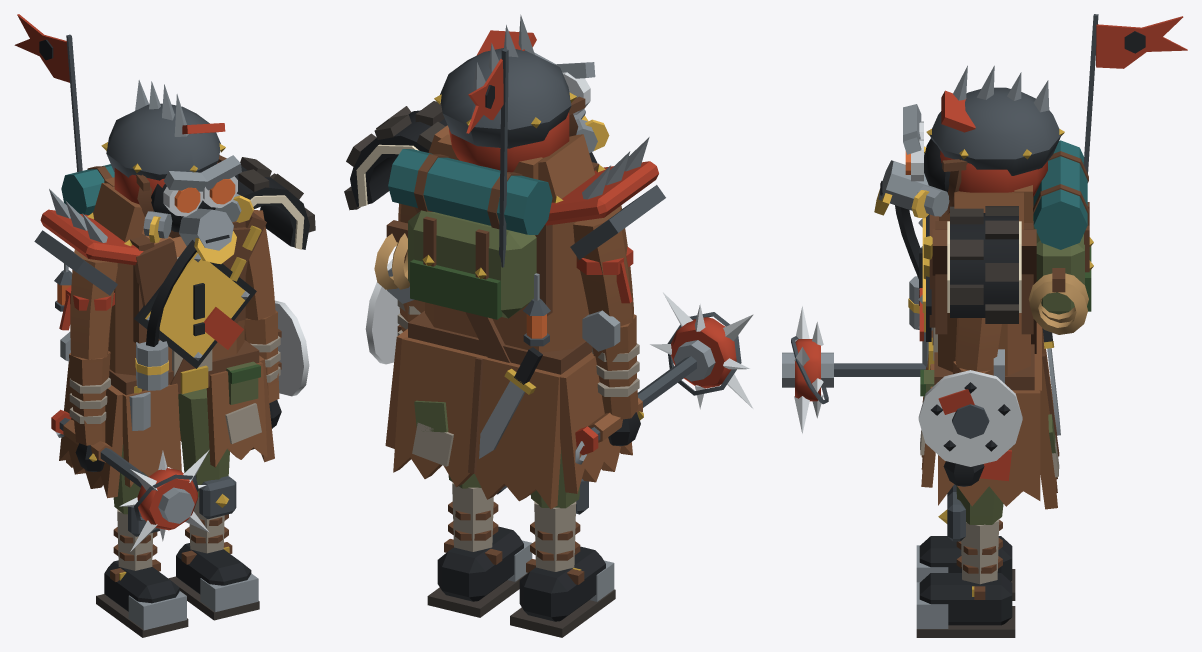
File: Monster_AshRaider_Melee.fbx
The picture shows the model from 3 angles, left to right: view 1: azimuth 30°, elevation 25°; view 2: azimuth 150°, elevation 25°; view 3: azimuth 270°, elevation 25°; orthographic projection. The views are drawn at different scales.
Visible parts, largest first — view 1: Torso, Head, Pelvis, RightLowerArm, LeftLowerLeg, RightLowerLeg, LeftLowerArm, RightUpperArm, LeftUpperLeg, LeftUpperArm, Lenses, RightUpperLeg; view 2: Torso, Pelvis, Head, RightLowerArm, RightLowerLeg, LeftLowerLeg, RightUpperArm, LeftLowerArm, RightUpperLeg; view 3: Torso, Head, Pelvis, LeftLowerLeg, LeftLowerArm, RightLowerArm, RightLowerLeg, LeftUpperArm, LeftUpperLeg.
Boxes of the visible parts, <box> form: Torso: <box>14,14,315,394</box>; Head: <box>101,80,253,264</box>; Pelvis: <box>59,340,274,498</box>; RightLowerArm: <box>51,332,209,551</box>; LeftLowerLeg: <box>168,476,259,620</box>; RightLowerLeg: <box>96,506,188,637</box>; LeftLowerArm: <box>244,300,309,428</box>; RightUpperArm: <box>59,249,117,359</box>; LeftUpperLeg: <box>178,388,229,497</box>; LeftUpperArm: <box>245,210,275,320</box>; Lenses: <box>174,179,235,212</box>; RightUpperLeg: <box>113,444,148,514</box>; Torso: <box>344,48,665,362</box>; Pelvis: <box>385,311,632,509</box>; Head: <box>434,14,609,172</box>; RightLowerArm: <box>575,292,753,464</box>; RightLowerLeg: <box>510,479,615,637</box>; LeftLowerLeg: <box>427,482,532,617</box>; RightUpperArm: <box>573,205,633,326</box>; LeftLowerArm: <box>365,259,424,364</box>; RightUpperLeg: <box>530,450,579,508</box>; Torso: <box>895,14,1187,375</box>; Head: <box>874,65,1064,218</box>; Pelvis: <box>920,322,1060,509</box>; LeftLowerLeg: <box>916,492,1015,637</box>; LeftLowerArm: <box>918,349,1022,486</box>; RightLowerArm: <box>782,306,925,433</box>; RightLowerLeg: <box>916,484,1015,600</box>; LeftUpperArm: <box>955,318,1001,371</box>; LeftUpperLeg: <box>956,486,1003,524</box>.
Size of the model in its own units: 3.41 by 6.75 by 4.37.
